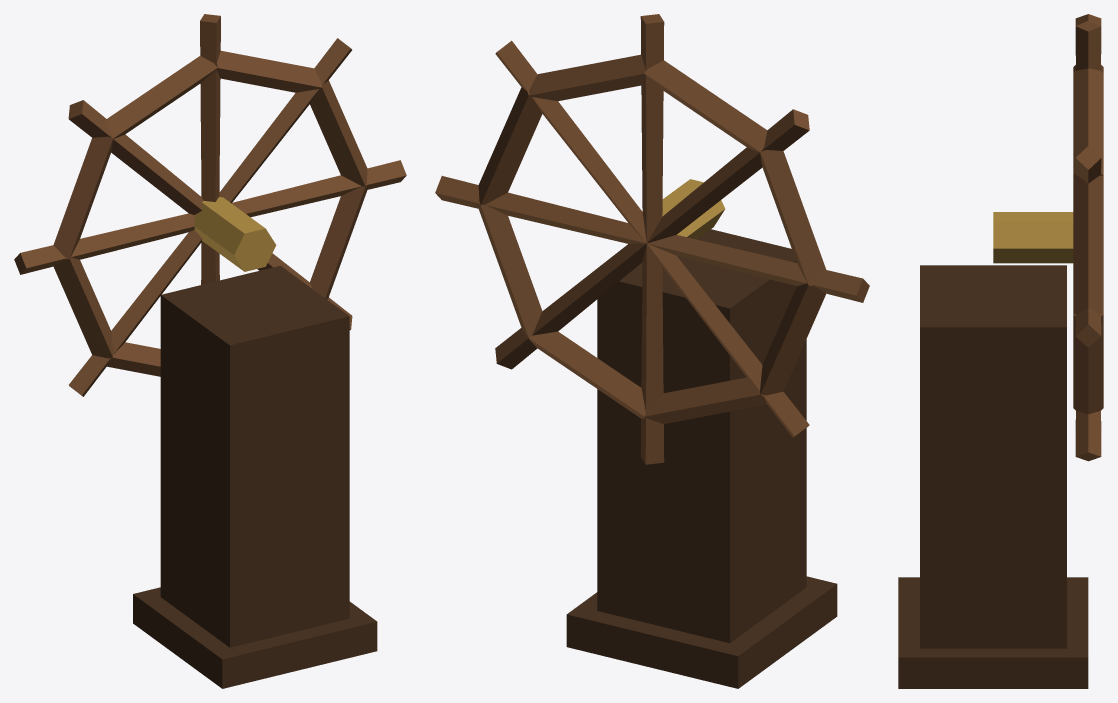
The model's file is nav-timao.gltf.
3 renders of one model, left to right at view 1: azimuth 30°, elevation 25°; view 2: azimuth 150°, elevation 25°; view 3: azimuth 270°, elevation 25°, orthographic. The views are drawn at different scales.
Parts seen in each view (by area): view 1: nav-timao; view 2: nav-timao; view 3: nav-timao.
Boxes of the visible parts, box(x1,y1,x2,y2) form: nav-timao: box(14, 14, 406, 688); nav-timao: box(435, 14, 869, 688); nav-timao: box(898, 14, 1103, 688).
Bounding box in the file's own units: 1.08 × 1.59 × 0.475.
